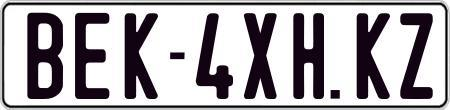4: (194, 10, 235, 102)
B: (25, 10, 63, 101)
E: (73, 10, 109, 96)
H: (291, 11, 322, 98)
K: (355, 12, 393, 102), (122, 10, 158, 99)
X: (242, 11, 278, 102)
Z: (399, 11, 437, 99)
